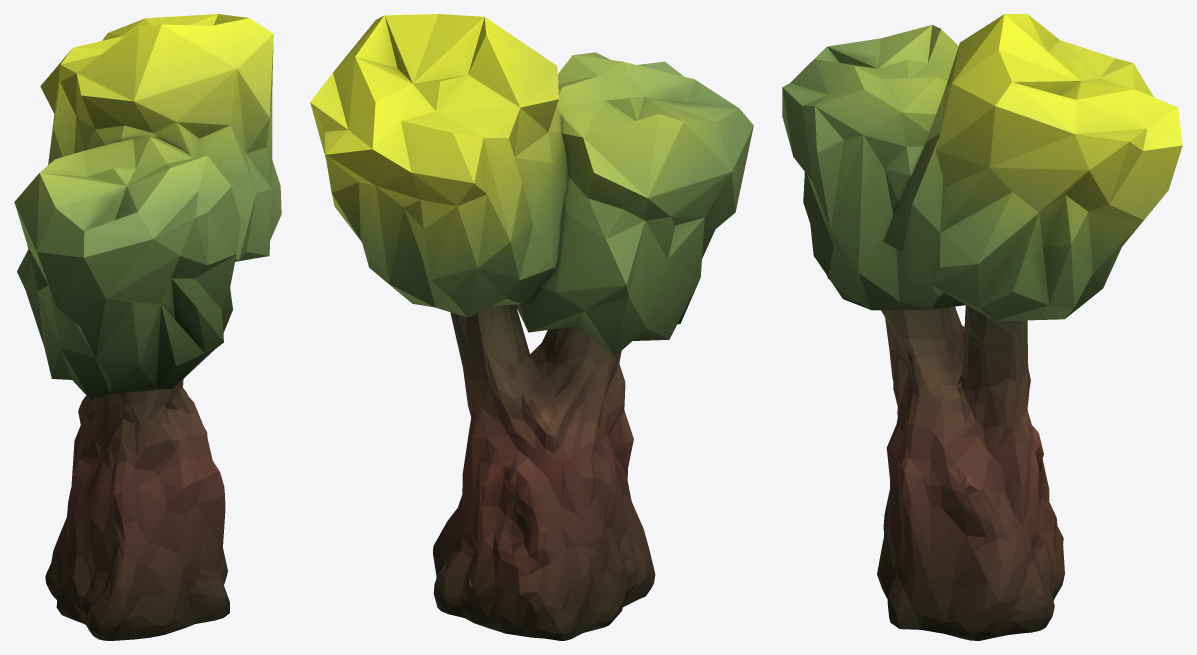
Rendered from Orme.fbx.
The picture shows the model from 3 angles, left to right: view 1: azimuth 30°, elevation 25°; view 2: azimuth 150°, elevation 25°; view 3: azimuth 270°, elevation 25°; orthographic projection. The views are drawn at different scales.
Visible parts, largest first — view 1: Cube; view 2: Cube; view 3: Cube.
Part boxes in pixels (x1,y1,x2,y2): Cube: (14,14,281,640); Cube: (310,14,753,640); Cube: (782,14,1182,640).
Bounding box in the file's own units: 624 × 1130 × 677.
2 materials, 2 textured.
